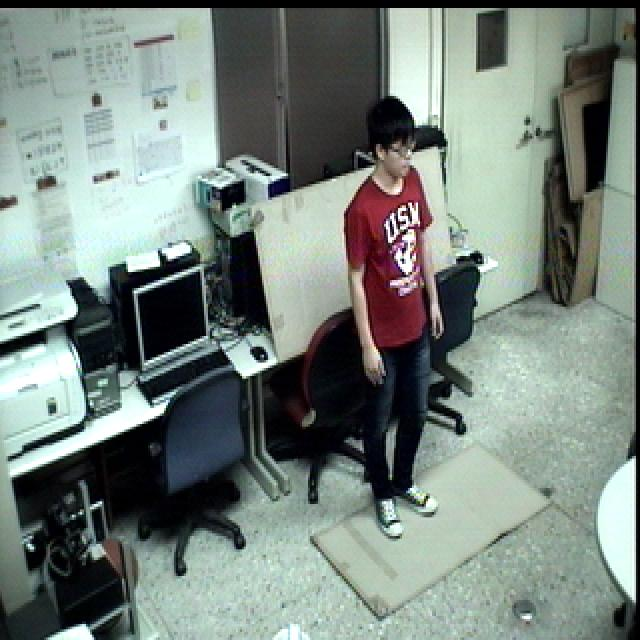stand: (341, 85, 454, 545)
